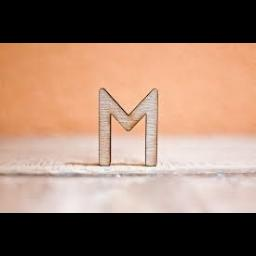m: (96, 84, 160, 170)
